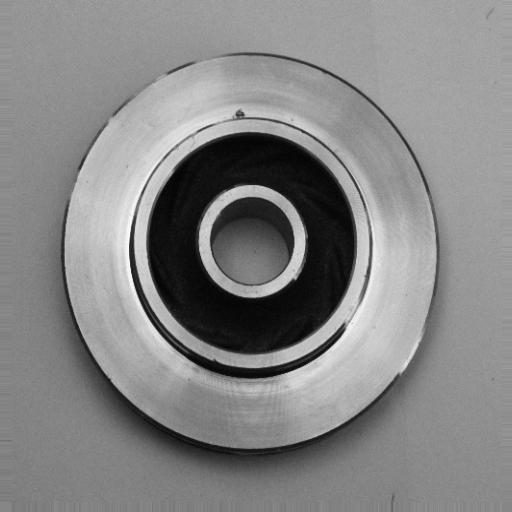crack: (222, 104, 254, 128)
unpolished_casting: (60, 49, 441, 457)
